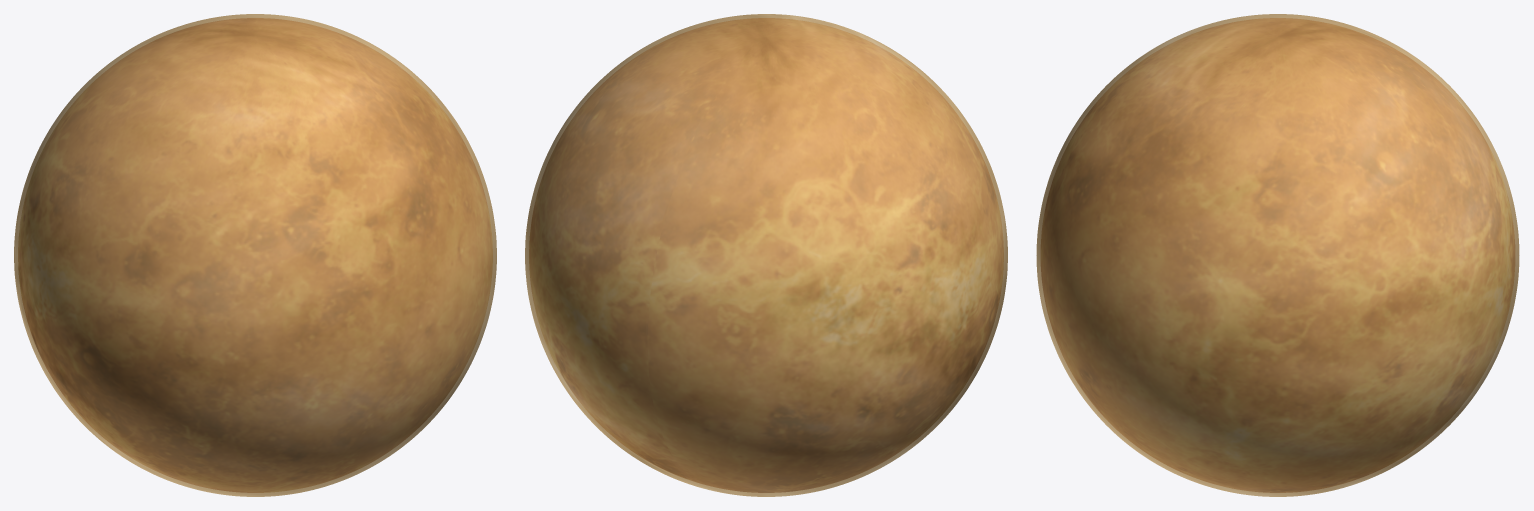
Rendered from venus.glb.
3 renders of one model, left to right at view 1: azimuth 30°, elevation 25°; view 2: azimuth 150°, elevation 25°; view 3: azimuth 270°, elevation 25°, orthographic.
Visible parts, largest first — view 1: Clouds, Earth; view 2: Clouds, Earth; view 3: Clouds, Earth.
Part boxes in pixels (x1,y1,x2,y2): Clouds: [14, 14, 496, 496]; Earth: [18, 18, 492, 492]; Clouds: [525, 14, 1007, 496]; Earth: [529, 18, 1003, 492]; Clouds: [1036, 14, 1519, 496]; Earth: [1041, 18, 1514, 492].
Bounding box in the file's own units: 102 × 102 × 102.
2 materials, 2 textured.
